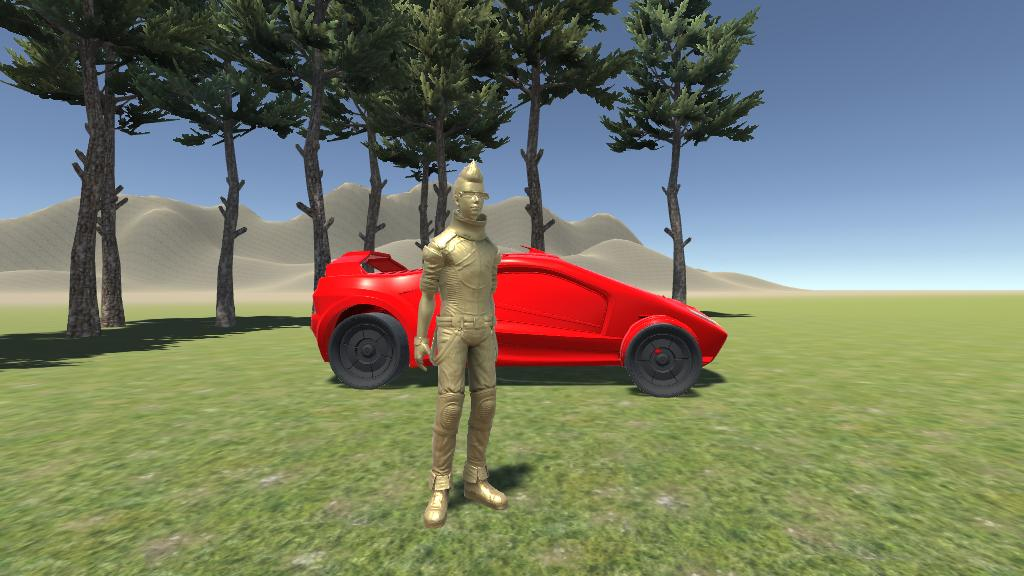car: (311, 246, 727, 398)
ethan: (414, 160, 508, 529)
